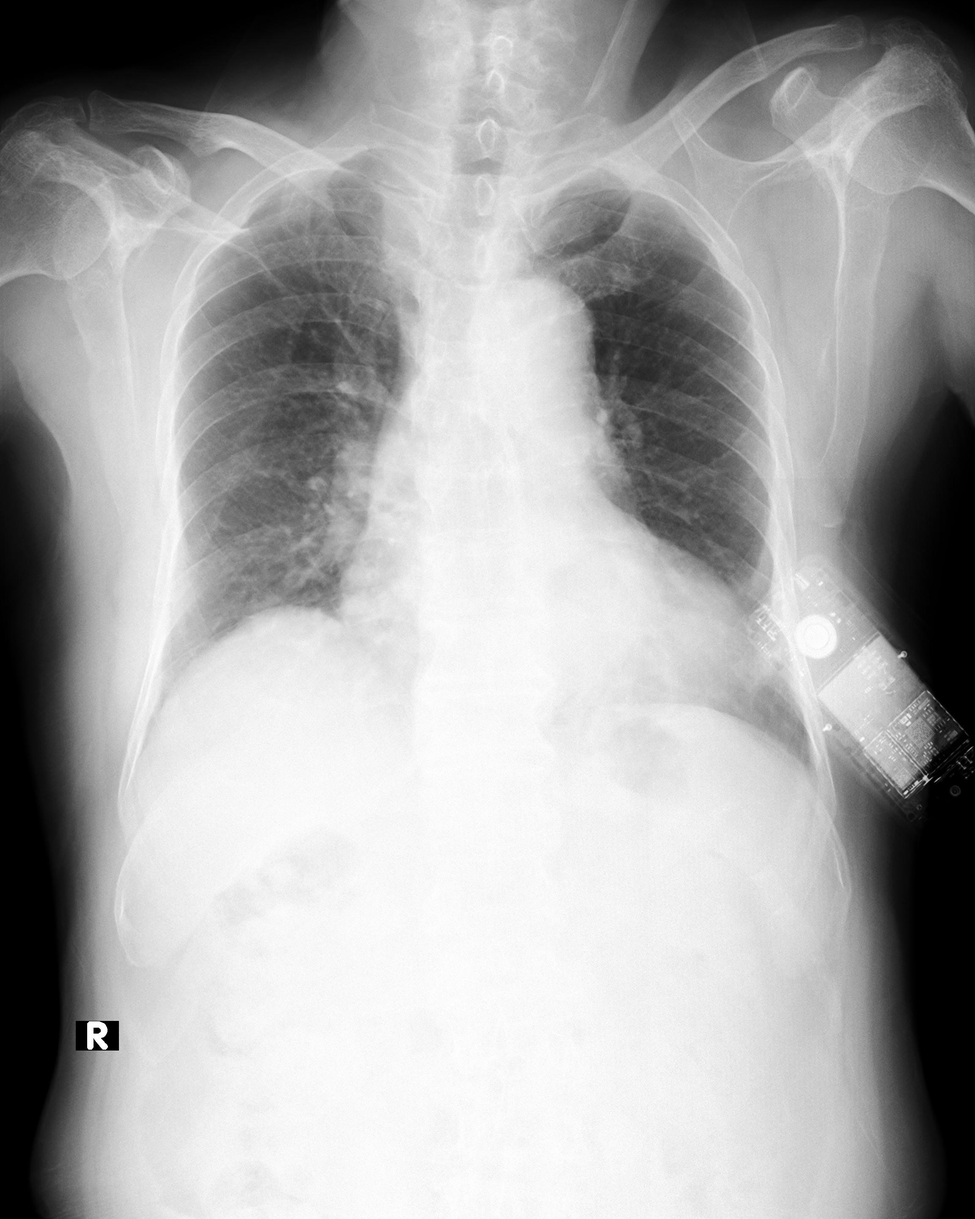Aortic enlargement: (470, 276, 600, 395)
Cardiomegaly: (331, 515, 751, 725)
